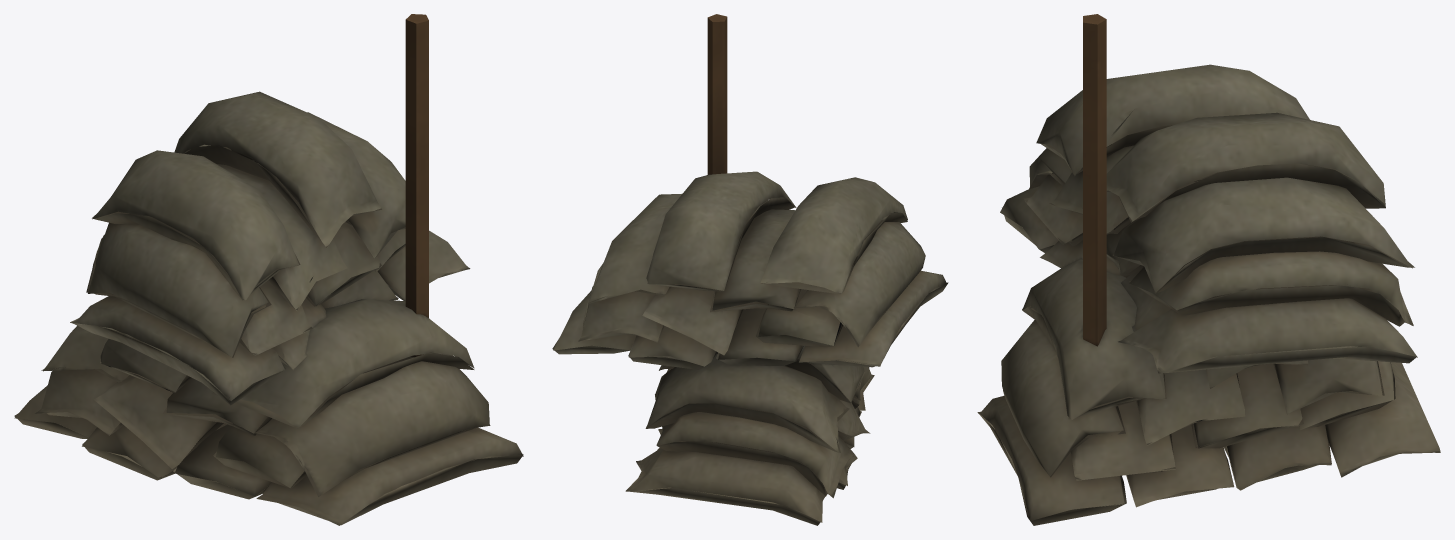
Rendered from sbag-post.glb.
The picture shows the model from 3 angles, left to right: view 1: azimuth 30°, elevation 25°; view 2: azimuth 150°, elevation 25°; view 3: azimuth 270°, elevation 25°; orthographic projection. The views are drawn at different scales.
Visible parts, largest first — view 1: hull; view 2: hull; view 3: hull.
Boxes of the visible parts, <box> form: hull: <box>14,14,523,525</box>; hull: <box>552,14,948,525</box>; hull: <box>977,14,1440,525</box>.
Bounding box in the file's own units: 1.32 × 1.6 × 1.41.
1 material, 1 textured.
